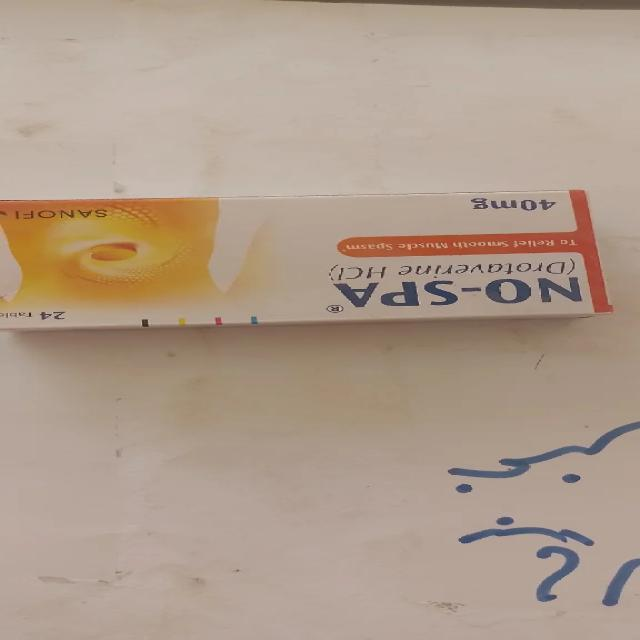drug-name: (324, 278, 589, 306)
